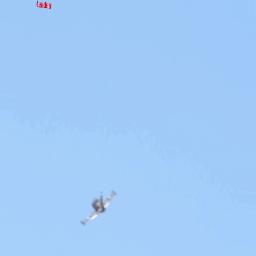Airplane: (79, 190, 118, 226)
